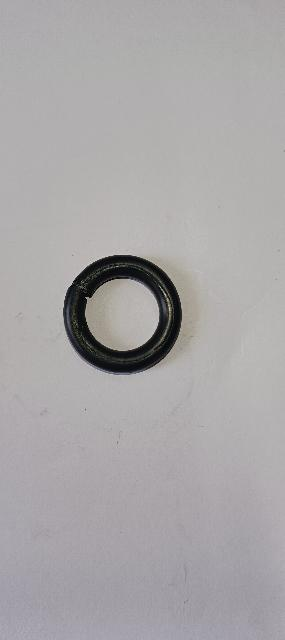crack: (60, 270, 99, 306)
